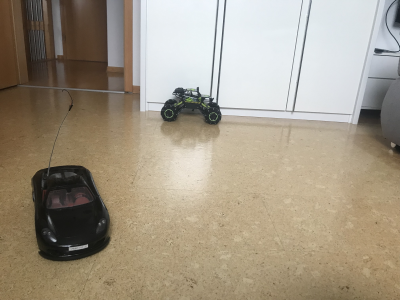remote control car: (159, 84, 223, 124)
